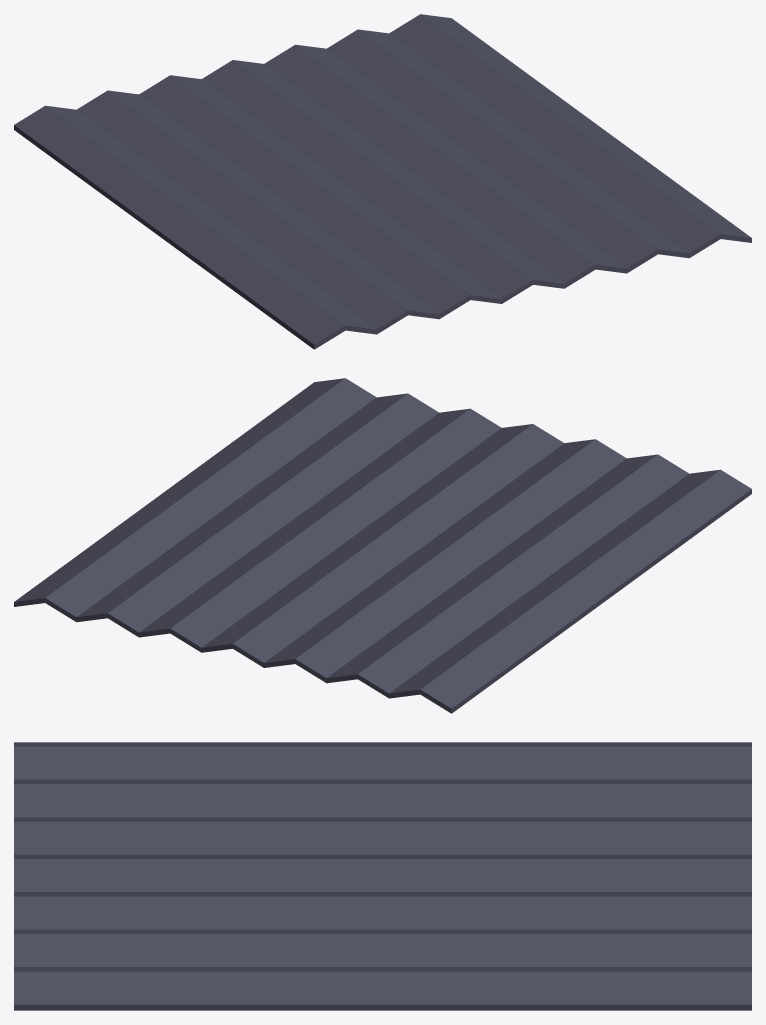
Rendered from MetalTile_01.fbx.
The picture shows the model from 3 angles, top to bottom: view 1: azimuth 30°, elevation 25°; view 2: azimuth 150°, elevation 25°; view 3: azimuth 270°, elevation 25°; orthographic projection. The views are drawn at different scales.
Visible parts, largest first — view 1: MetalTile_01; view 2: MetalTile_01; view 3: MetalTile_01.
Part boxes in pixels (bbox=[...]): MetalTile_01: bbox=[14, 14, 751, 349]; MetalTile_01: bbox=[14, 378, 751, 713]; MetalTile_01: bbox=[14, 742, 751, 1010].
Size of the model in its own units: 115 by 4.18 by 137.
